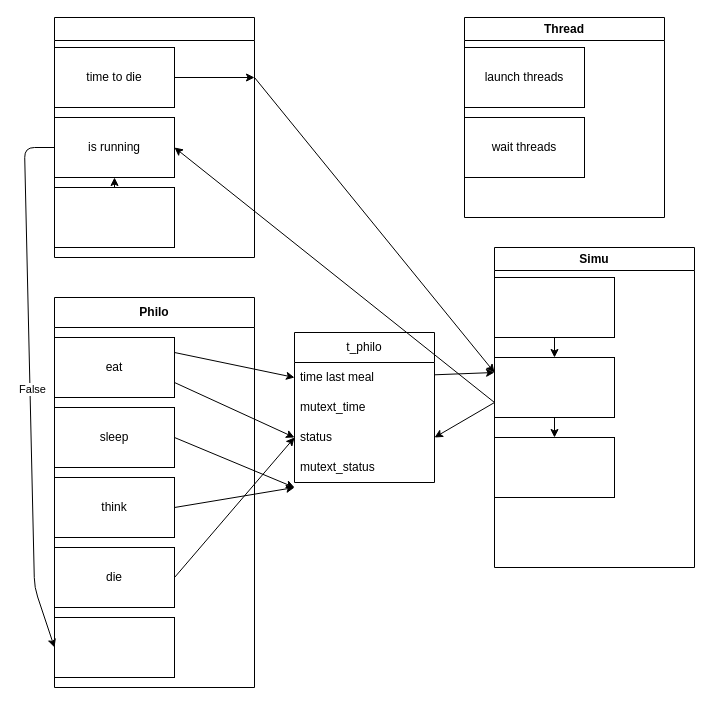
Some shapes in this 712 by 705 pixel diagram are drawn without their labels. Here are the shapes that lost their labels. From the top down, the box of each, then its label:
(54, 16, 254, 258): Global
(54, 186, 174, 248): mutex is running
(494, 276, 614, 338): start simu
(494, 356, 614, 418): check death
(494, 436, 614, 498): end simu
(54, 616, 174, 678): quit thread
